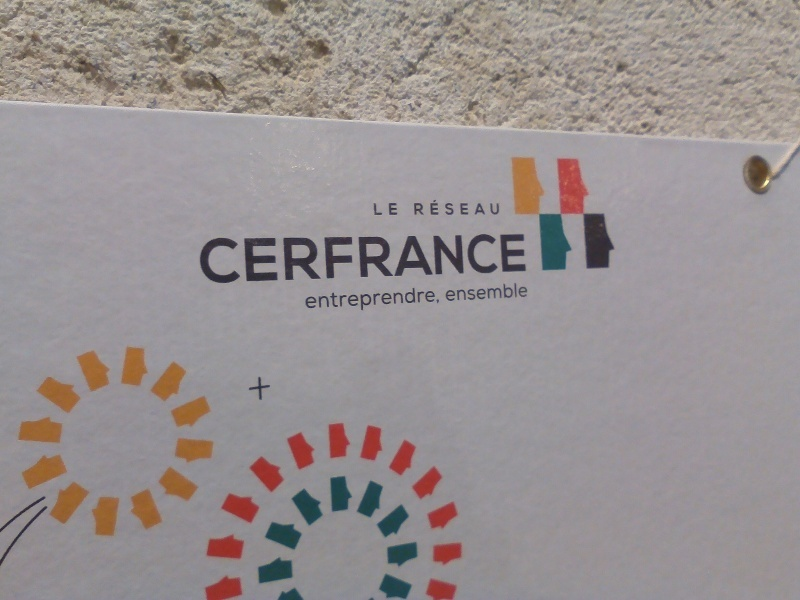text: (513, 234, 529, 284), (209, 234, 224, 284), (225, 234, 240, 284), (241, 234, 256, 284), (257, 234, 272, 284), (273, 234, 288, 284), (289, 234, 304, 284), (305, 234, 320, 284), (321, 234, 336, 284), (337, 234, 352, 284), (353, 234, 368, 284), (369, 234, 384, 284), (385, 234, 400, 284), (401, 234, 416, 284), (417, 234, 432, 284), (433, 234, 448, 284), (449, 234, 464, 284), (465, 234, 480, 284), (481, 234, 496, 284), (497, 234, 512, 284), (199, 234, 208, 284), (305, 285, 320, 315), (321, 285, 336, 315), (337, 285, 352, 315), (353, 285, 368, 315), (369, 285, 384, 315), (385, 285, 400, 315), (401, 285, 416, 315), (417, 285, 432, 315), (449, 281, 464, 304), (465, 281, 480, 304), (481, 281, 496, 304), (497, 281, 512, 304), (513, 281, 528, 304), (417, 199, 432, 216), (433, 199, 448, 216), (449, 199, 464, 216), (465, 199, 480, 216), (481, 199, 496, 216), (433, 285, 441, 315), (385, 202, 399, 216), (373, 202, 384, 216), (443, 281, 448, 304), (302, 285, 304, 315), (413, 199, 416, 216), (497, 199, 500, 216), (529, 281, 530, 304)
